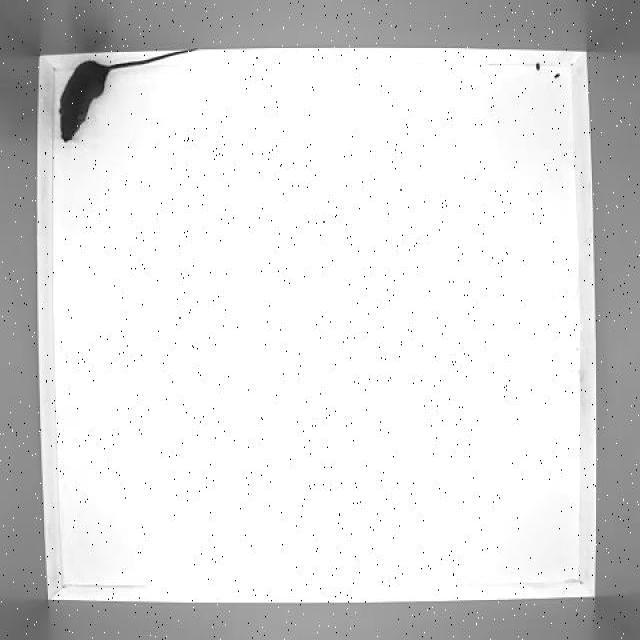rat: (53, 45, 208, 144)
